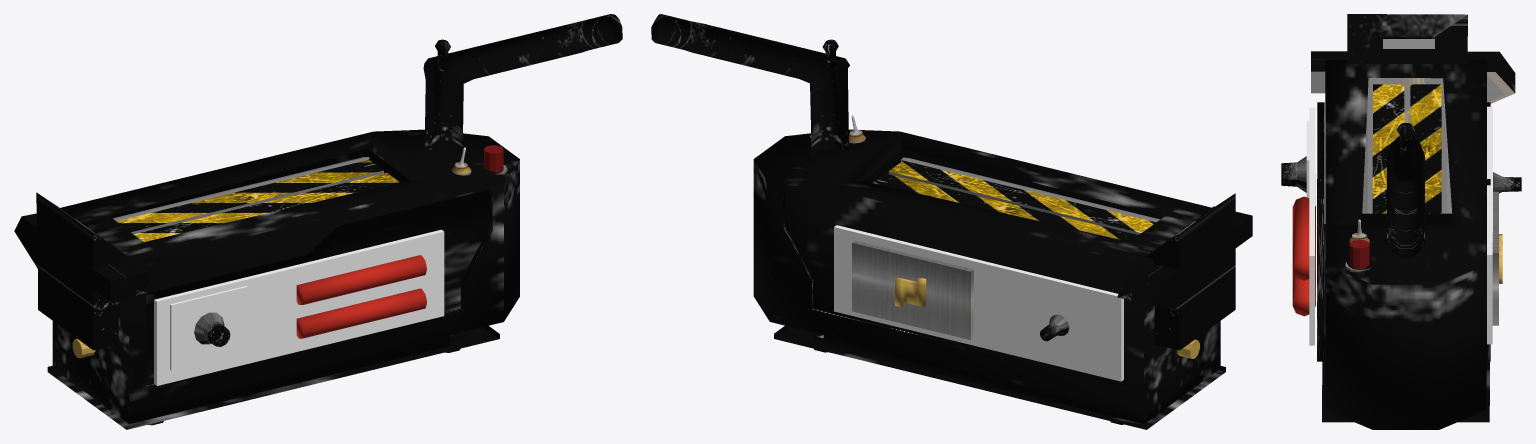
Rendered from WorldItem_GhostbusterTrap.fbx.
3 views of the same model, side by side, from view 1: azimuth 30°, elevation 25°; view 2: azimuth 150°, elevation 25°; view 3: azimuth 270°, elevation 25° (orthographic). The views are drawn at different scales.
Visible parts, largest first — view 1: Cylinder.014; view 2: Cylinder.014; view 3: Cylinder.014.
Boxes of the visible parts, x1,y1,x2,y2 form: Cylinder.014: (14, 14, 622, 429); Cylinder.014: (651, 14, 1252, 429); Cylinder.014: (1281, 14, 1521, 429).
Size of the model in its own units: 0.2629 by 0.129 by 0.094.
